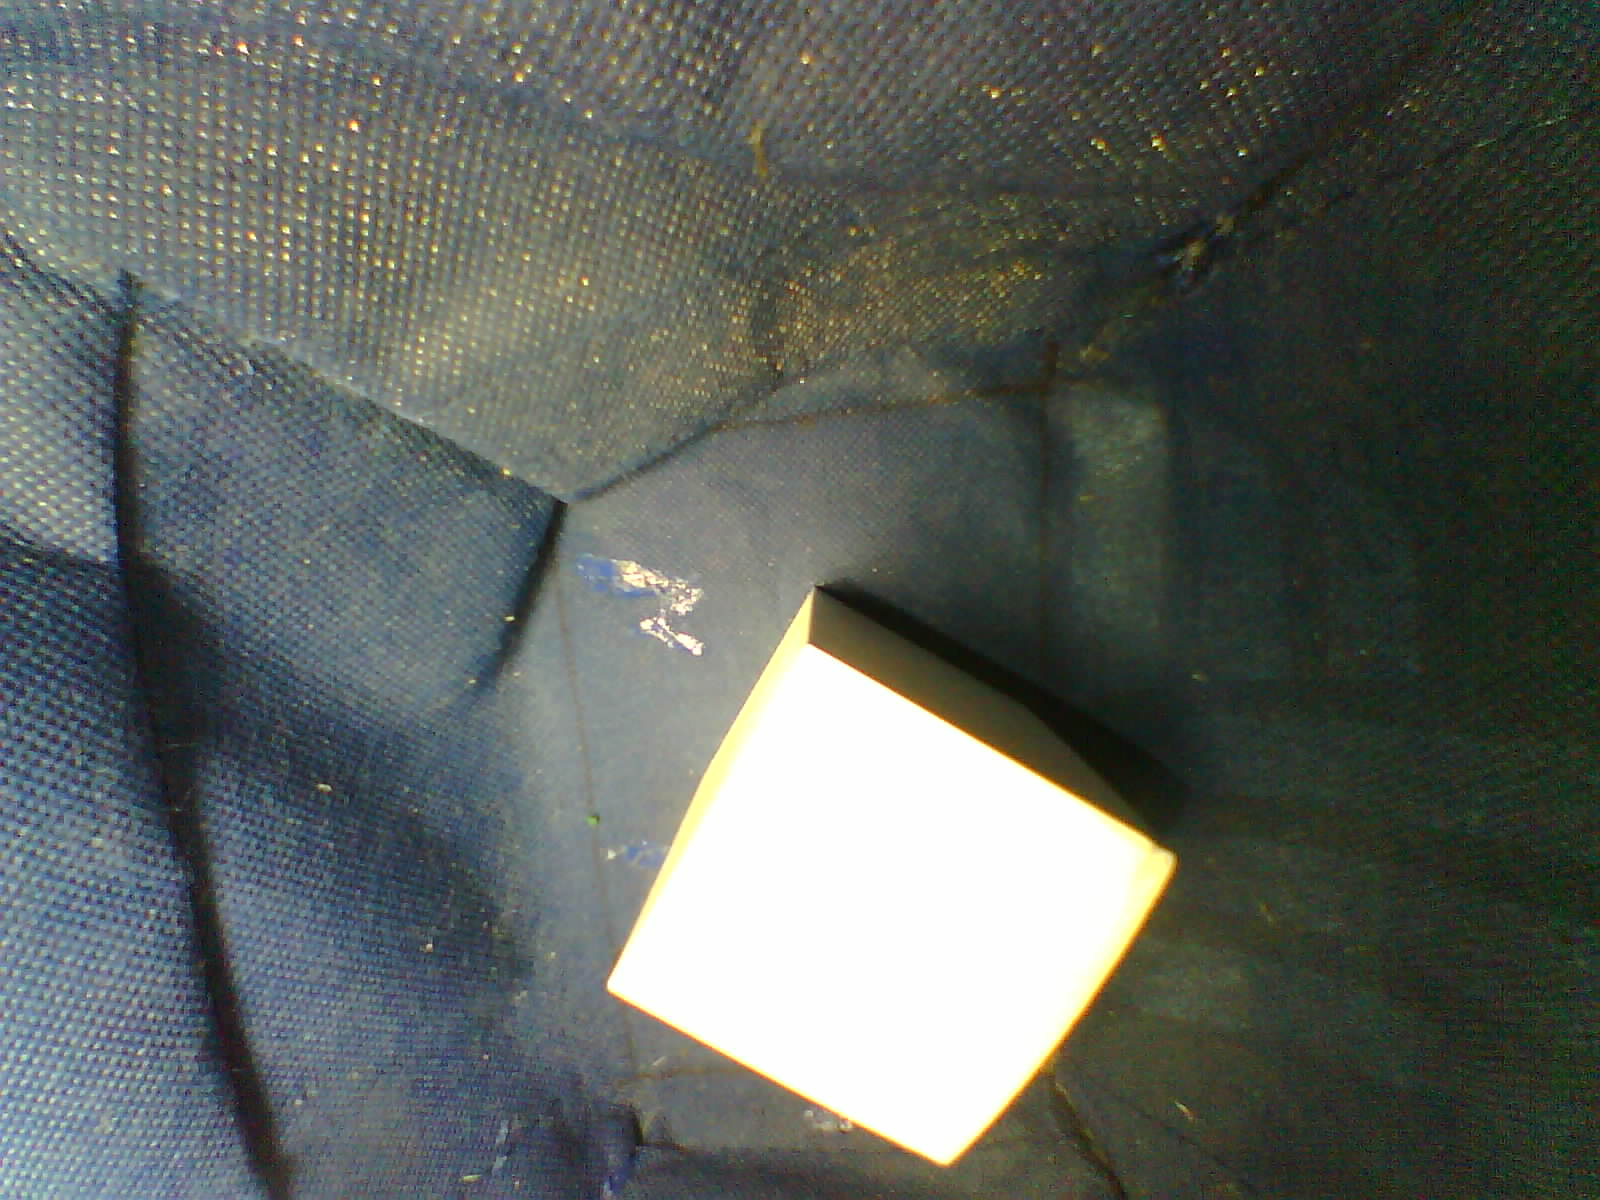cube-hard: (573, 574, 1201, 1184)
